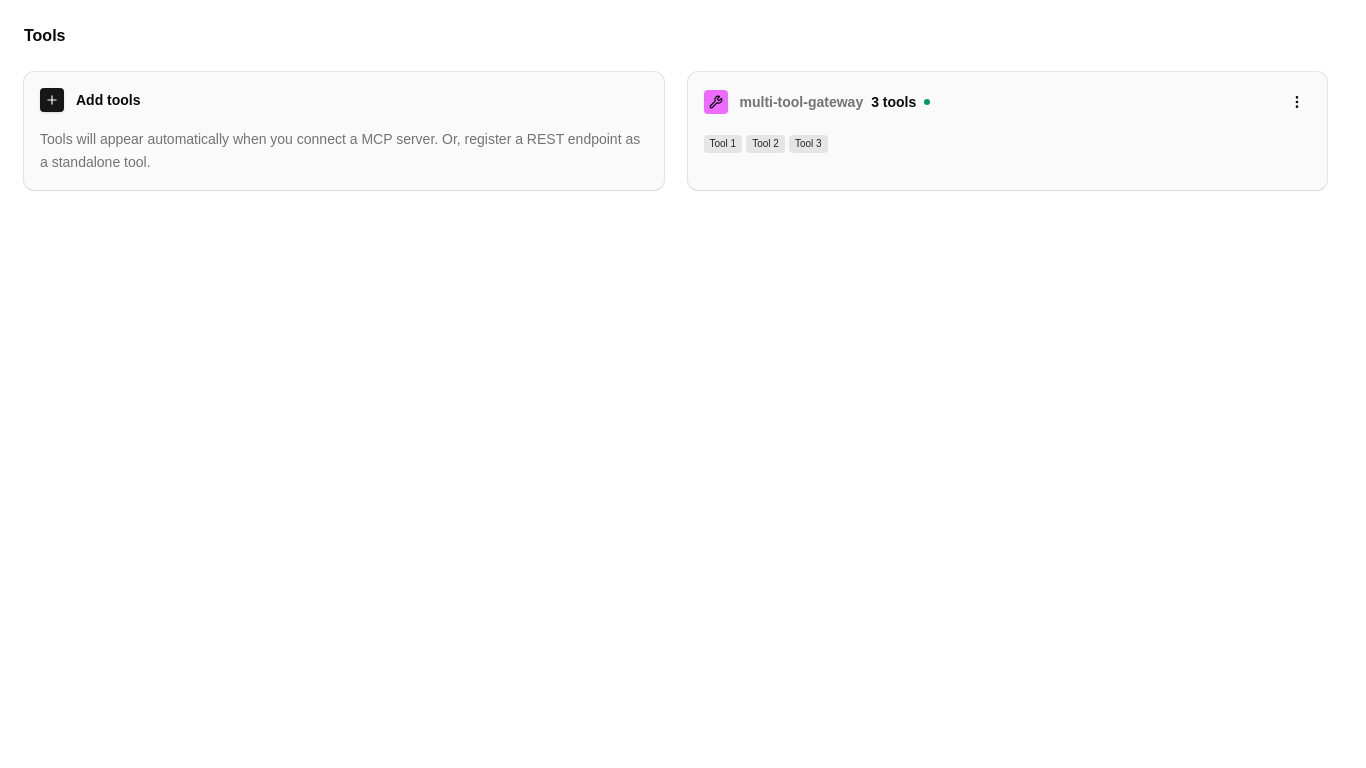
Tools › Dropdown Menu and Details Panel › displays all tools from selected group in details panel
Check: the text "multi-tool-gateway" is shown, box [740,92,863,112]
// Open details panel
Click the button named "More options for multi-tool-gateway" at (1297,102), box [1283,88,1311,116]
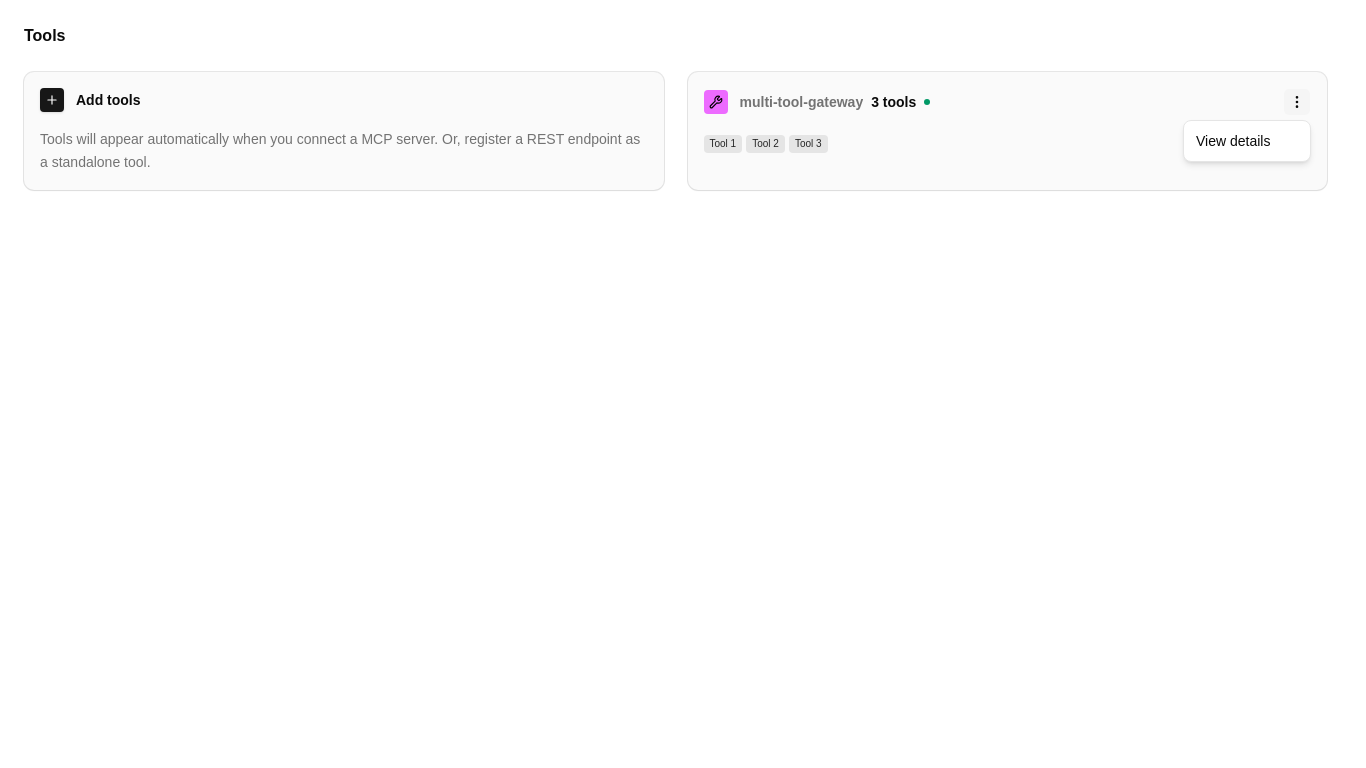
Click the menu item "View details" at (1233,141), box [1196,133,1270,149]
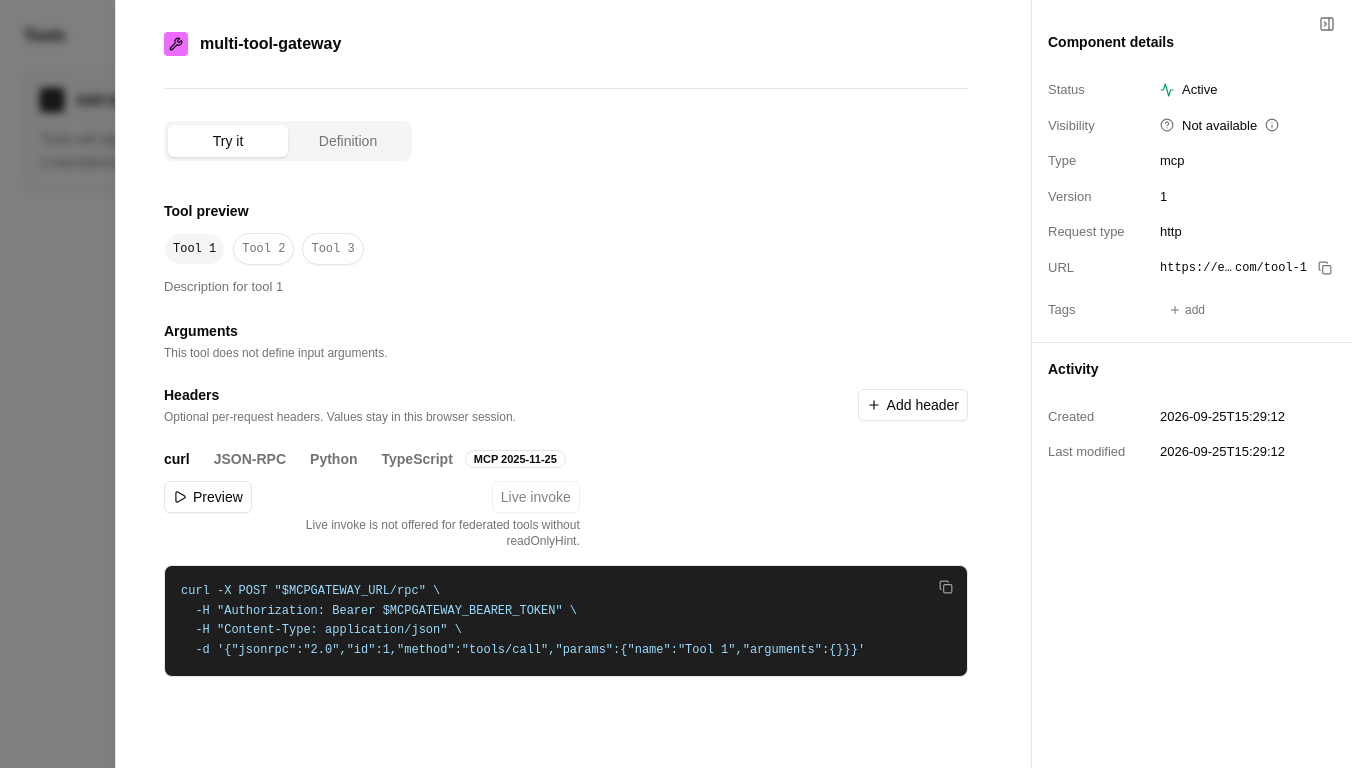
Check: the element named "Tools for multi-tool-gateway" is shown
Check: the button "Tool 1" is shown, box [164,233,225,265]
Check: the button "Tool 2" is shown, box [233,233,294,265]
